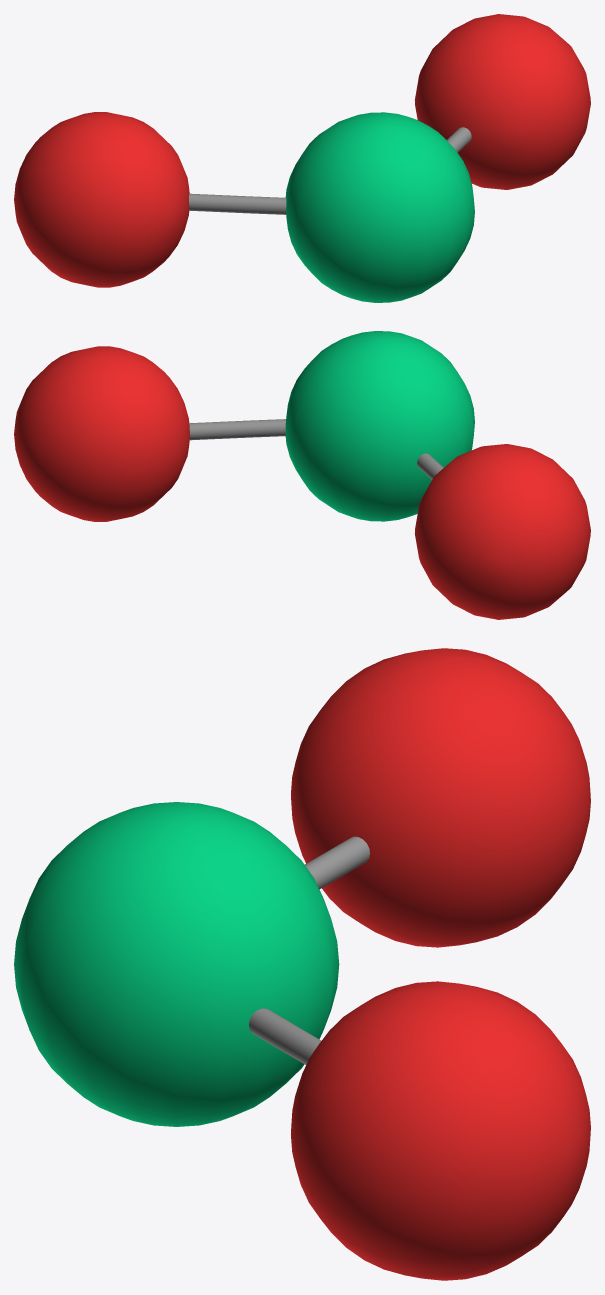
The picture shows the model from 3 angles, top to bottom: view 1: azimuth 30°, elevation 25°; view 2: azimuth 150°, elevation 25°; view 3: azimuth 270°, elevation 25°; orthographic projection. The views are drawn at different scales.
Visible parts, largest first — view 1: KO2; view 2: KO2; view 3: KO2.
Part boxes in pixels (x1=…): KO2: x1=14, y1=14, x2=590, y2=302; KO2: x1=14, y1=331, x2=590, y2=619; KO2: x1=14, y1=648, x2=590, y2=1280.
Size of the model in its own units: 6.69 by 2 by 3.55.
